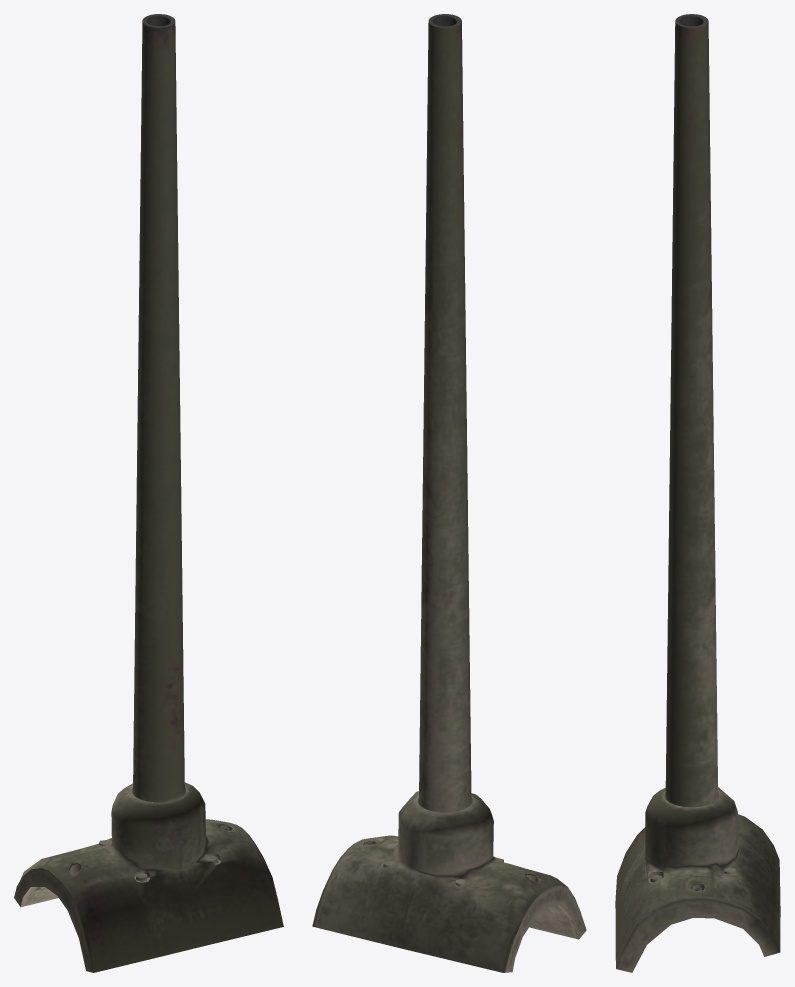
File: Gun_01.glb
3 views of the same model, side by side, from view 1: azimuth 30°, elevation 25°; view 2: azimuth 150°, elevation 25°; view 3: azimuth 270°, elevation 25° (orthographic).
Parts seen in each view (by area): view 1: set_0_group_0; view 2: set_0_group_0; view 3: set_0_group_0.
Part boxes in pixels (box(x1,y1,x2,y2)): set_0_group_0: box(14, 14, 283, 972); set_0_group_0: box(312, 14, 586, 972); set_0_group_0: box(615, 14, 780, 972).
Bounding box in the file's own units: 0.7927 × 3.6 × 0.5929.
1 material, 1 textured.
